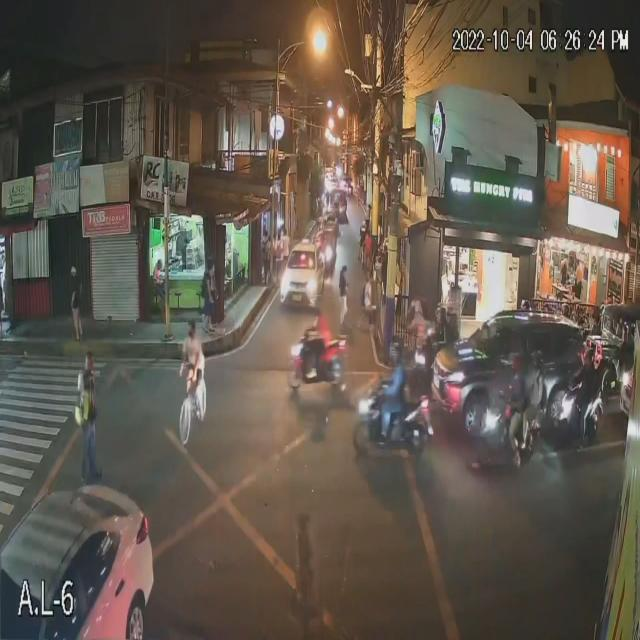Full-Faced: (578, 346, 596, 372)
Half-Faced: (508, 350, 526, 375), (530, 349, 544, 374)
